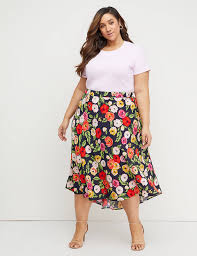C_skirt: (64, 84, 168, 216)
